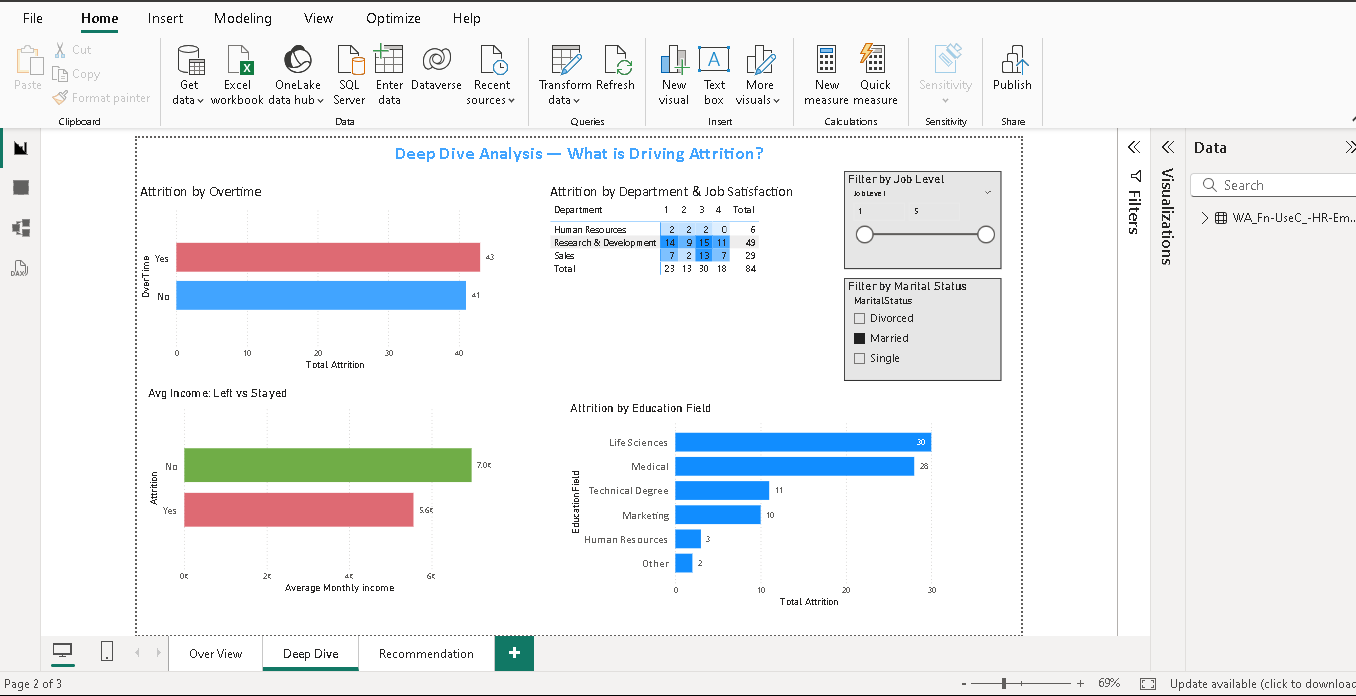

What the dashboard file says about the page in this screenshot:
{"tool":"powerbi","page":{"name":"Deep Dive","canvas":[1280,720],"ordinal":1},"visuals":[{"type":"textbox","box":[348.6,0,582.9,47],"z":0},{"type":"clusteredBarChart","title":"Attrition by Overtime","fields":{"Category":["WA_Fn-UseC_-HR-Employee-Attrition.OverTime"],"Y":["WA_Fn-UseC_-HR-Employee-Attrition.Total_Attrition"]},"box":[0,65.2,530.4,276.8],"z":1000},{"type":"pivotTable","title":"Attrition by Department & Job Satisfaction","fields":{"Rows":["WA_Fn-UseC_-HR-Employee-Attrition.Department"],"Columns":["WA_Fn-UseC_-HR-Employee-Attrition.JobSatisfaction"],"Values":["WA_Fn-UseC_-HR-Employee-Attrition.Total_Attrition"]},"box":[594.2,65.2,369.6,221.7],"z":2000},{"type":"clusteredBarChart","title":"Avg Income: Left vs Stayed","fields":{"Category":["WA_Fn-UseC_-HR-Employee-Attrition.Attrition"],"Y":["WA_Fn-UseC_-HR-Employee-Attrition.Average_Monthly_income"]},"box":[11.6,359.4,518.8,305.8],"z":3000},{"type":"clusteredBarChart","title":"Attrition by Education Field","fields":{"Category":["WA_Fn-UseC_-HR-Employee-Attrition.EducationField"],"Y":["WA_Fn-UseC_-HR-Employee-Attrition.Total_Attrition"]},"box":[623.2,381.2,558,304.3],"z":4000},{"type":"slicer","title":"Filter by Job Level","fields":{"Values":["WA_Fn-UseC_-HR-Employee-Attrition.JobLevel"]},"box":[1024.6,47.8,227.5,142],"z":5000},{"type":"slicer","title":"Filter by Marital Status","fields":{"Values":["WA_Fn-UseC_-HR-Employee-Attrition.MaritalStatus"]},"box":[1024.6,202.9,227.5,149.3],"z":6000}]}

Visuals, with their boxes on the page's 1280x720 design canvas (x1, y1, x2, y2). These are canvas units, not pixel positions in the 1356x696 screenshot, which may show the page scaled, cropped or inside an application window:
textbox: pyautogui.locateOnScreen(349, 0, 932, 47)
"Attrition by Overtime" clusteredBarChart: pyautogui.locateOnScreen(0, 65, 530, 342)
"Attrition by Department & Job Satisfaction" pivotTable: pyautogui.locateOnScreen(594, 65, 964, 287)
"Avg Income: Left vs Stayed" clusteredBarChart: pyautogui.locateOnScreen(12, 359, 530, 665)
"Attrition by Education Field" clusteredBarChart: pyautogui.locateOnScreen(623, 381, 1181, 686)
"Filter by Job Level" slicer: pyautogui.locateOnScreen(1025, 48, 1252, 190)
"Filter by Marital Status" slicer: pyautogui.locateOnScreen(1025, 203, 1252, 352)
